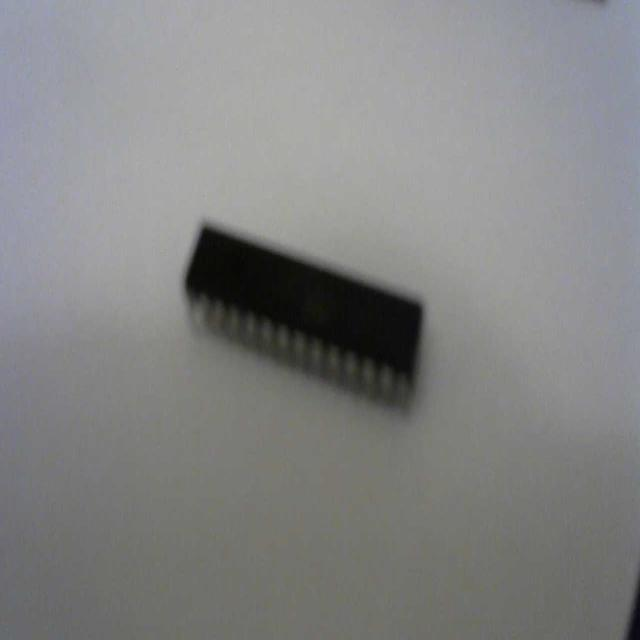atmega: (181, 216, 425, 415)
